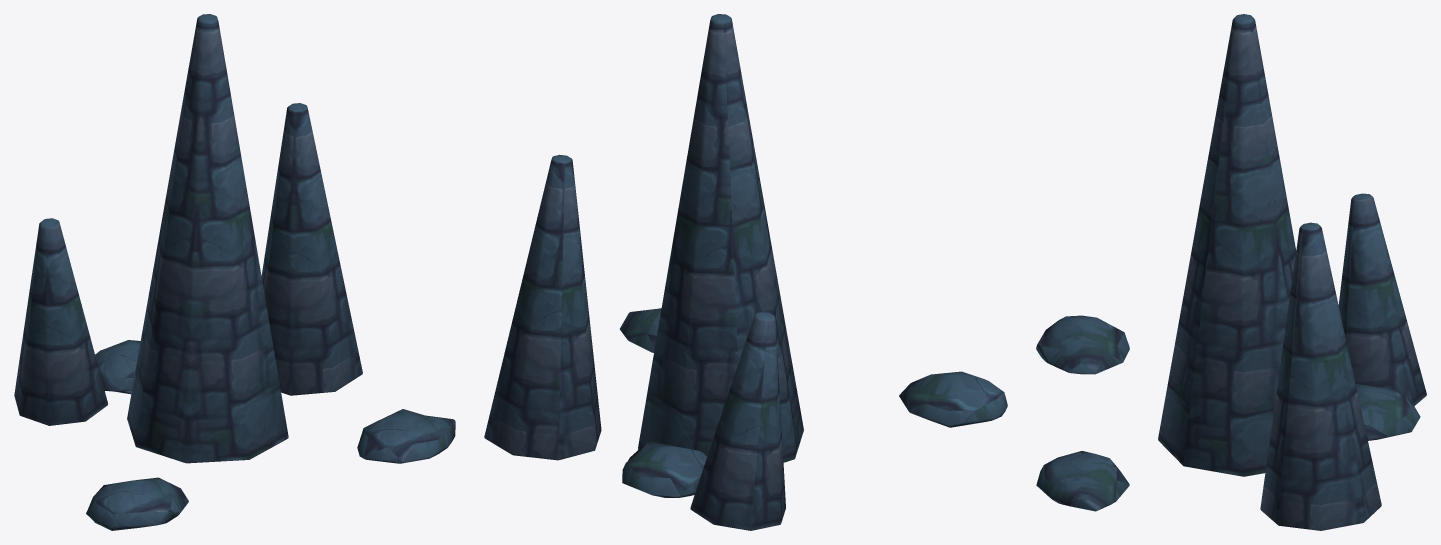
The model's file is stalagmite_cluster.gltf.
3 renders of one model, left to right at view 1: azimuth 30°, elevation 25°; view 2: azimuth 150°, elevation 25°; view 3: azimuth 270°, elevation 25°, orthographic. The views are drawn at different scales.
Visible parts, largest first — view 1: stalagmite_cluster; view 2: stalagmite_cluster; view 3: stalagmite_cluster.
Part boxes in pixels (x1,y1,x2,y2): stalagmite_cluster: (14, 14, 455, 530); stalagmite_cluster: (484, 14, 1007, 530); stalagmite_cluster: (1036, 14, 1426, 530).
Size of the model in its own units: 2.51 by 2.63 by 2.17.
1 material, 1 textured.
